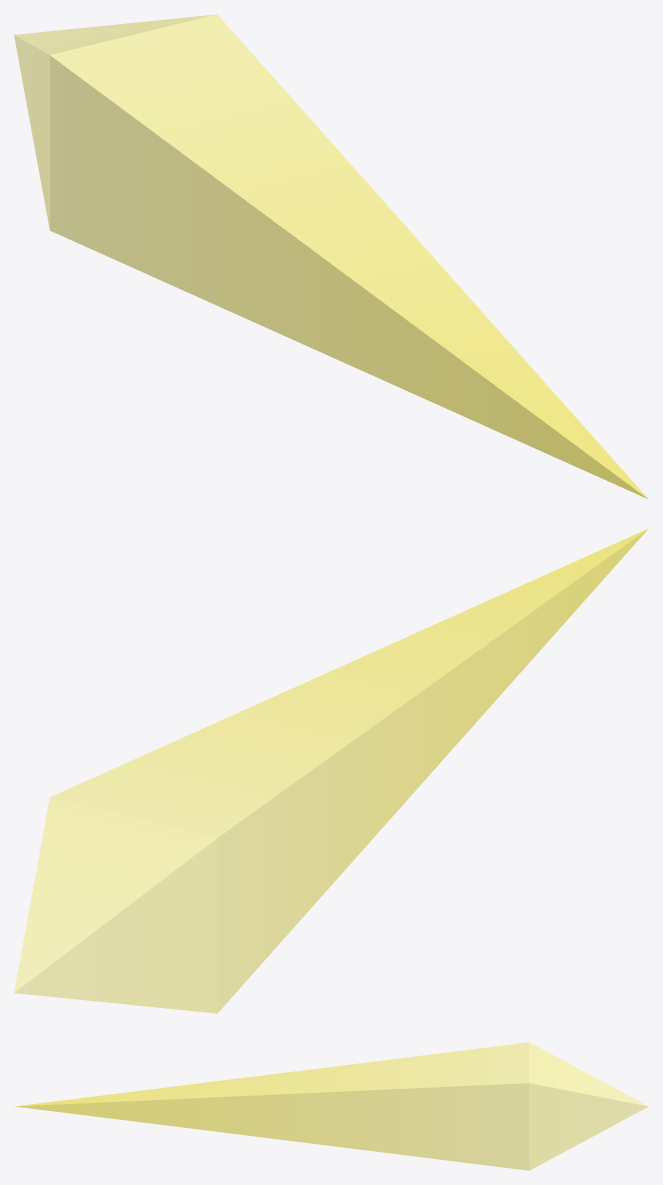
File: 1790930673673-3ommshell.glb
3 renders of one model, top to bottom at view 1: azimuth 30°, elevation 25°; view 2: azimuth 150°, elevation 25°; view 3: azimuth 270°, elevation 25°, orthographic. The views are drawn at different scales.
Visible parts, largest first — view 1: Cube.001; view 2: Cube.001; view 3: Cube.001.
Part boxes in pixels (<box>): Cube.001: <box>14,14,648,499</box>; Cube.001: <box>14,528,648,1013</box>; Cube.001: <box>14,1042,648,1170</box>.
Bounding box in the file's own units: 1.15 × 1.15 × 7.53.
1 material, 1 textured.
